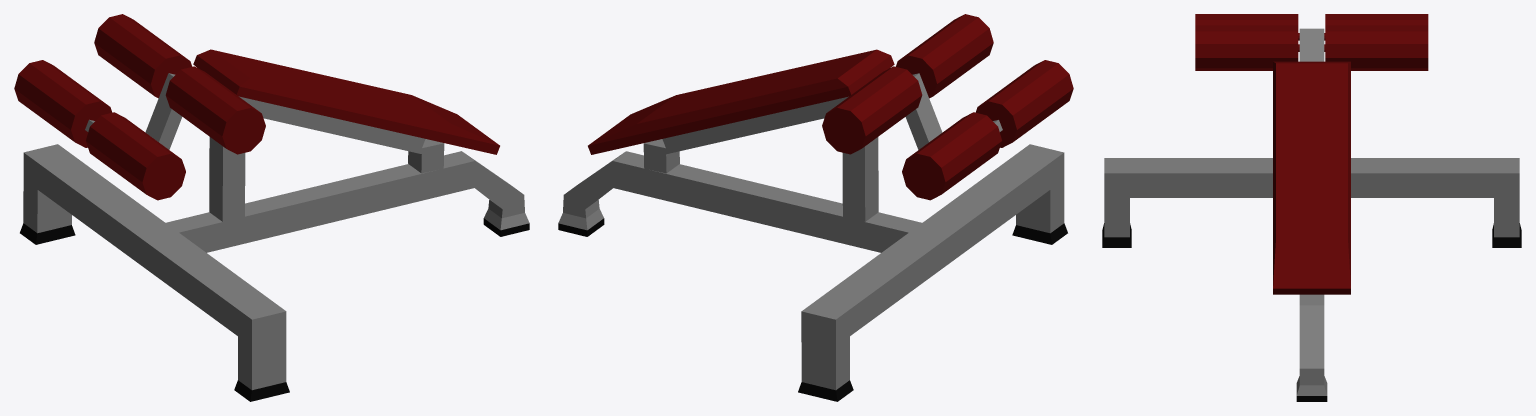
File: AbdominalBench.002.fbx
3 views of the same model, side by side, from view 1: azimuth 30°, elevation 25°; view 2: azimuth 150°, elevation 25°; view 3: azimuth 270°, elevation 25° (orthographic). The views are drawn at different scales.
Parts seen in each view (by area): view 1: AbdominalBench.002; view 2: AbdominalBench.002; view 3: AbdominalBench.002.
Part boxes in pixels (<box>): AbdominalBench.002: <box>14,14,529,401</box>; AbdominalBench.002: <box>558,14,1073,401</box>; AbdominalBench.002: <box>1102,14,1521,401</box>.
Bounding box in the file's own units: 127 × 66.82 × 114.
